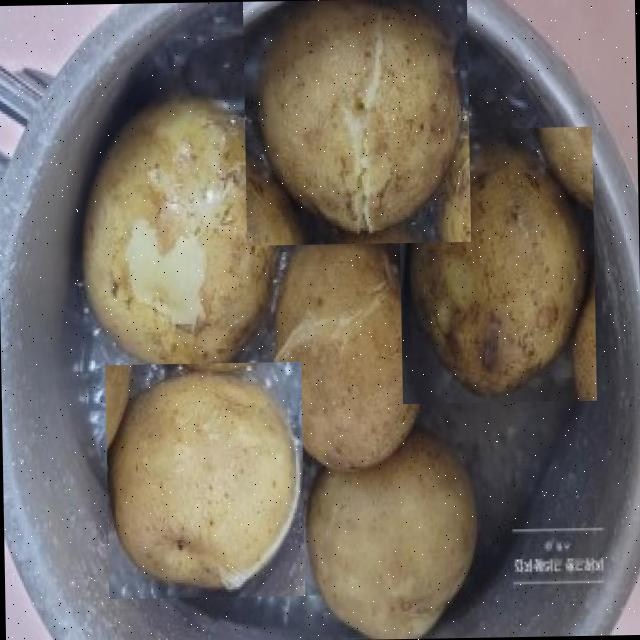Potato: (73, 96, 290, 382), (242, 0, 470, 245), (398, 126, 596, 404), (105, 362, 305, 598), (271, 221, 428, 478), (297, 425, 484, 640)
